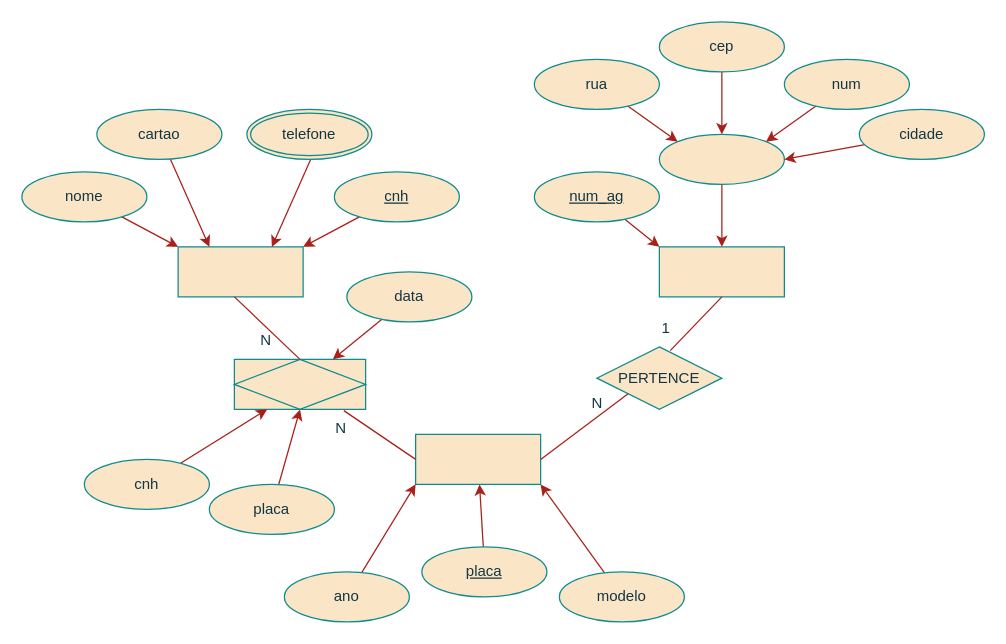
Some shapes in this 1006 by 644 pixel diagram are drawn without their labels. The centre of each missing label's shape, as x and y in pixels:
"AGENCIA" goes at (721,271).
"ALUGA" goes at (299,383).
"CARRO" goes at (477,458).
"CLIENTE" goes at (240,271).
"endereço" goes at (721,158).
